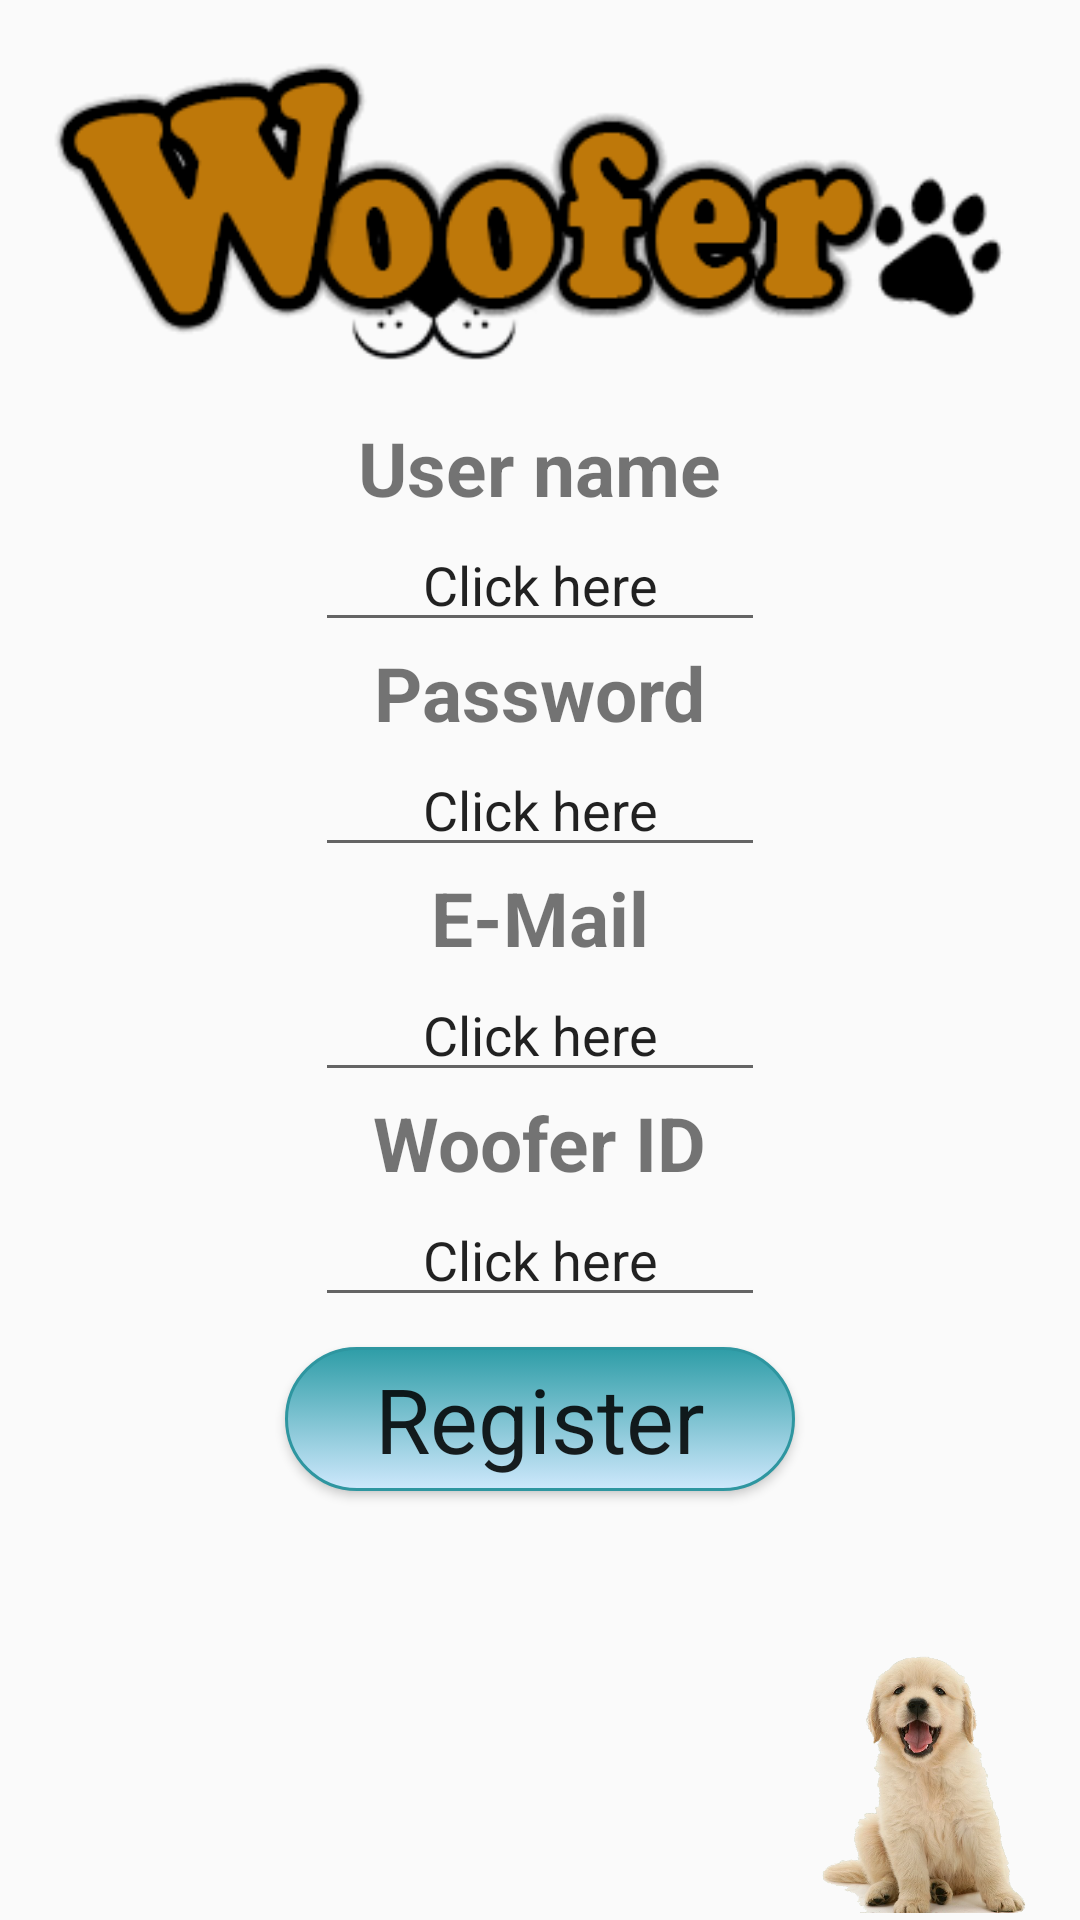

Named icons in this screenshot (1080×1920) and their centers, (x,y):
dogrdy: (924,1785)
